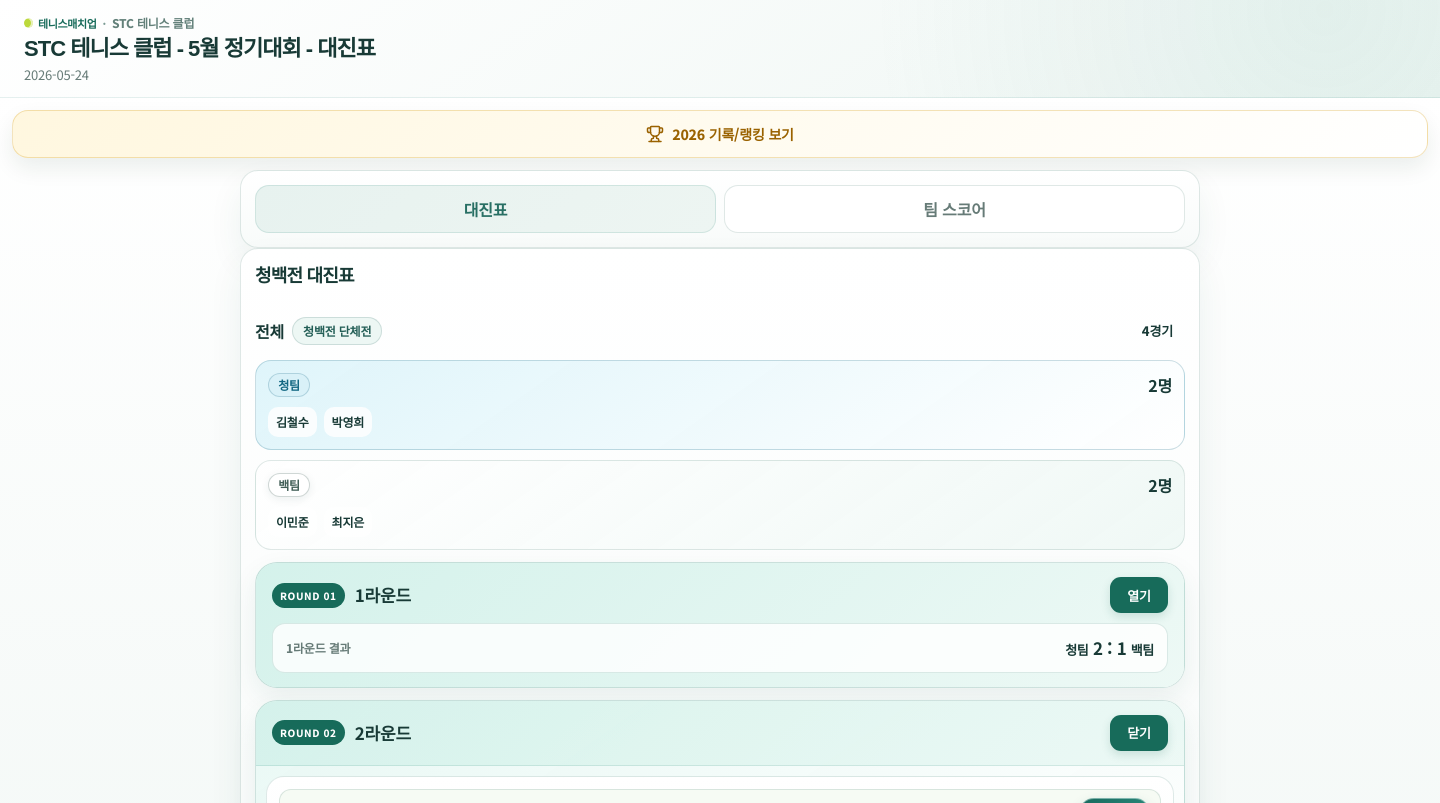
PublicTournamentView auto refresh › shows only schedule and team score tabs for a team battle
The image size is (1440, 803).
Expected: the element with class "team-battle-roster-summary" shows "김철수", x1=276 y1=413 x2=308 y2=430
Expected: the element showing "1라운드 결과 청팀 2 : 1 백팀" is shown, x1=272 y1=623 x2=1168 y2=672
Click the heading "ROUND 01 1라운드 열기 1라운드 결과 청팀 2 : 1 백팀" at (720, 625), box x1=256 y1=563 x2=1184 y2=686
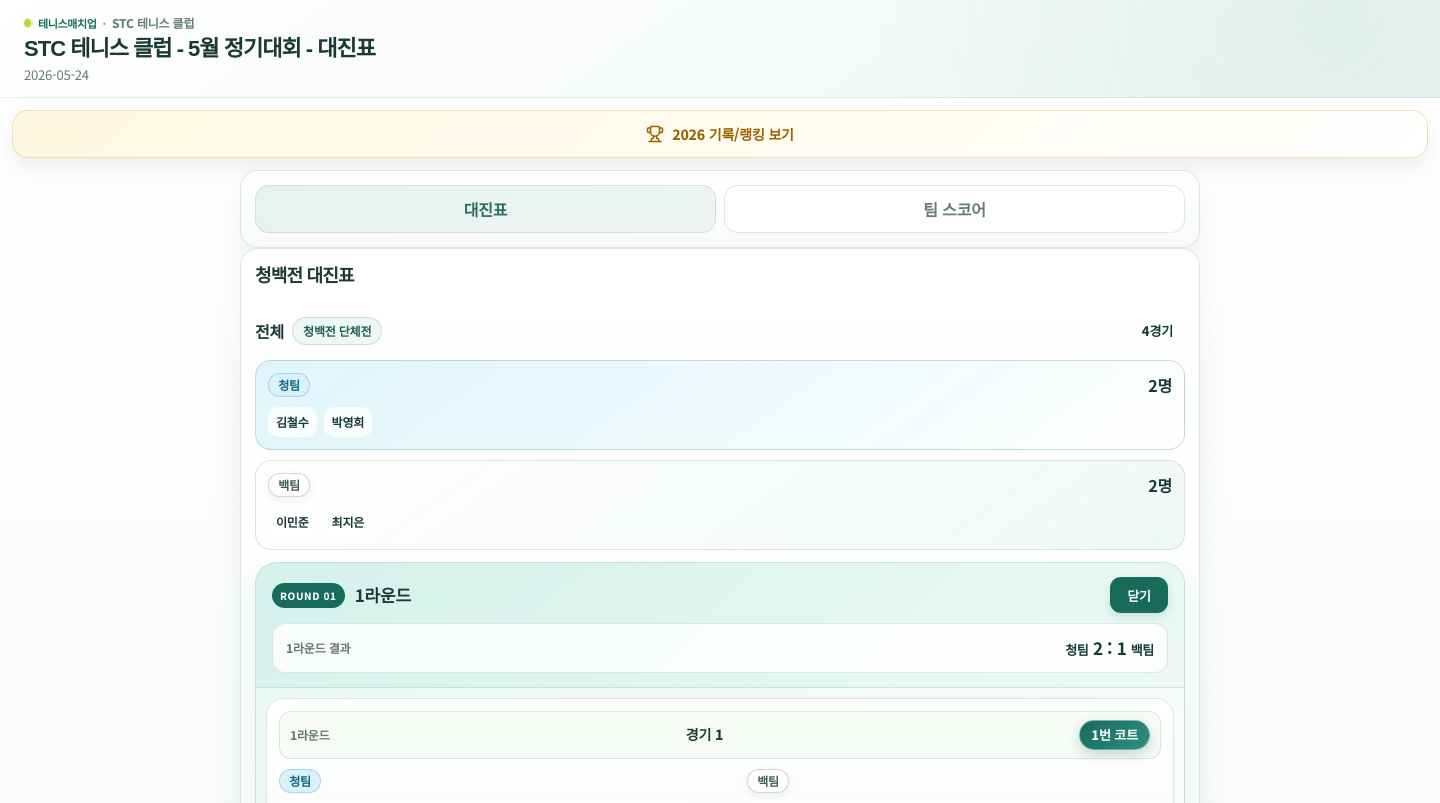
Now the element with class "tournament-round-head" shows "1라운드", box x1=279 y1=710 x2=1161 y2=758
Click the tab "팀 스코어" at (954, 209), box x1=724 y1=185 x2=1185 y2=233
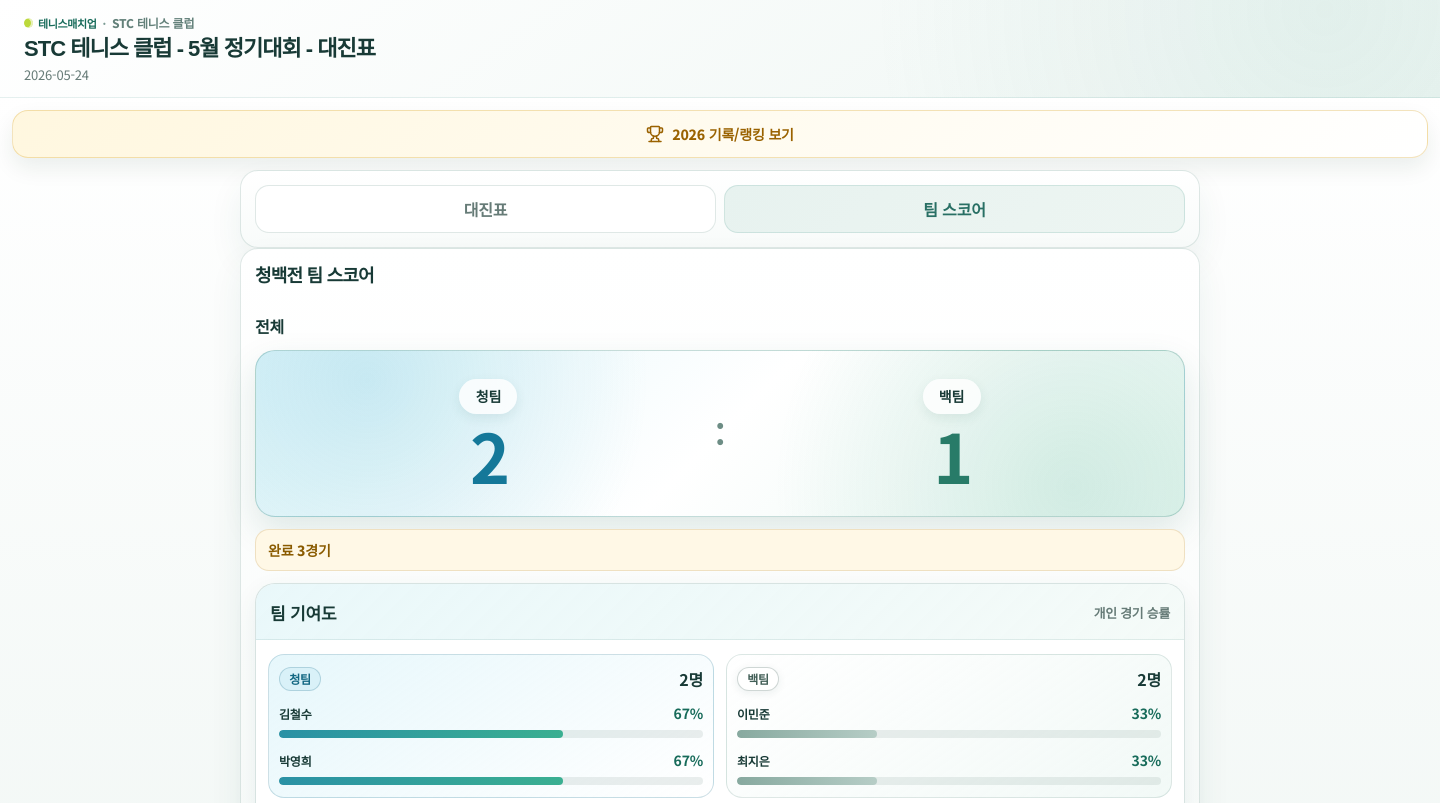
Now the text "청백전 대진표" is gone
Now the text "청백전 팀 스코어" is shown, box x1=255 y1=266 x2=374 y2=286
Now the element with class "team-battle-scoreboard" reads "청팀 2 : 백팀 1", box x1=255 y1=350 x2=1185 y2=517
